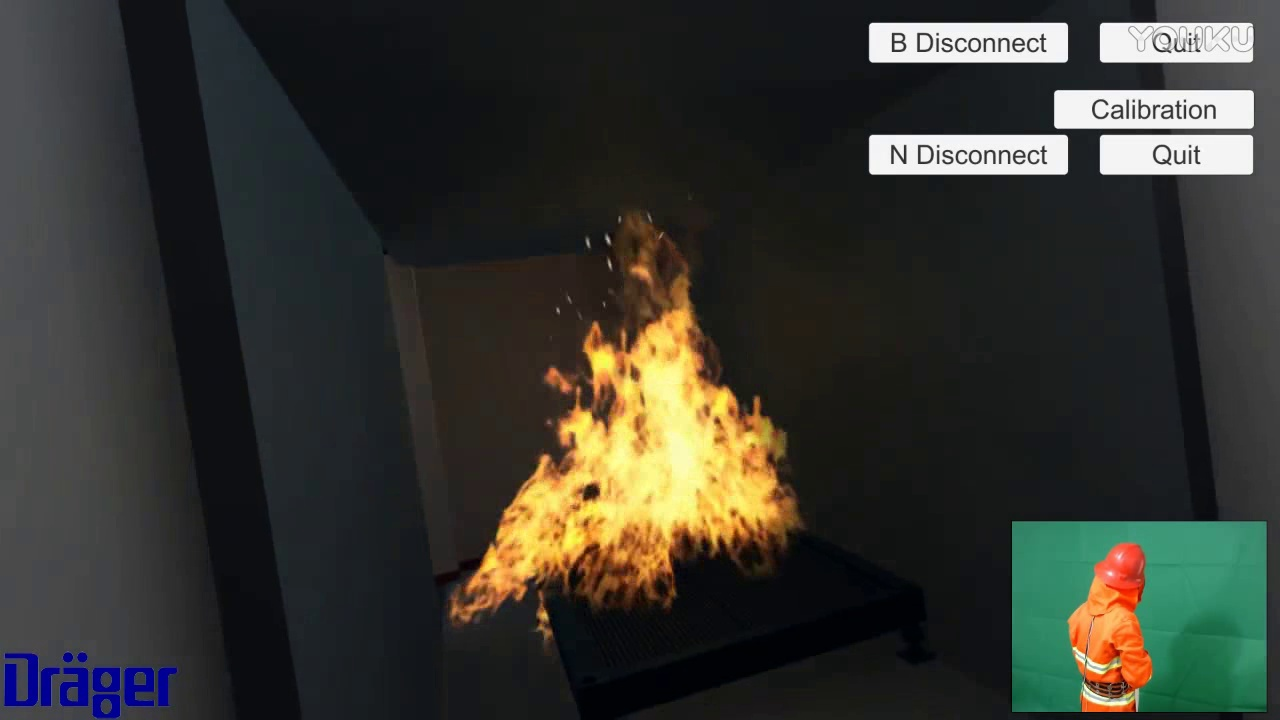fire: (417, 214, 802, 630)
